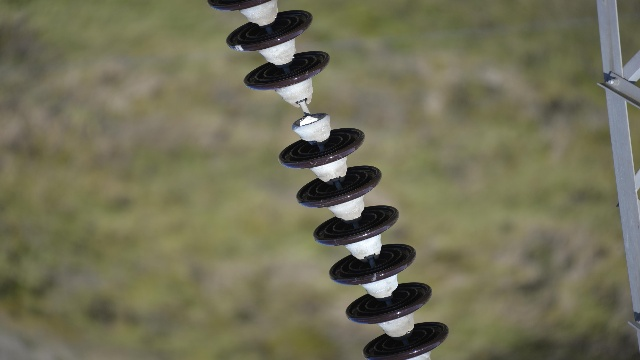broken_local: (291, 110, 332, 133)
insulator_unspecified: (210, 0, 450, 358)
